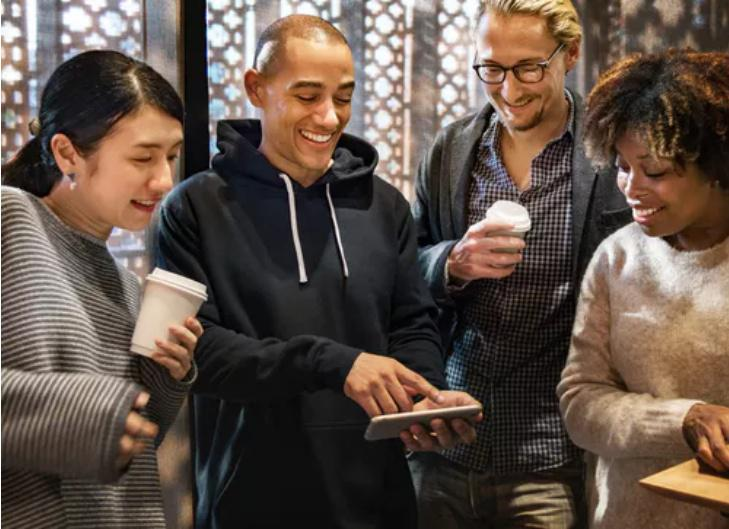face: (95, 114, 185, 231), (276, 42, 356, 171), (477, 16, 554, 132), (616, 129, 688, 237)
